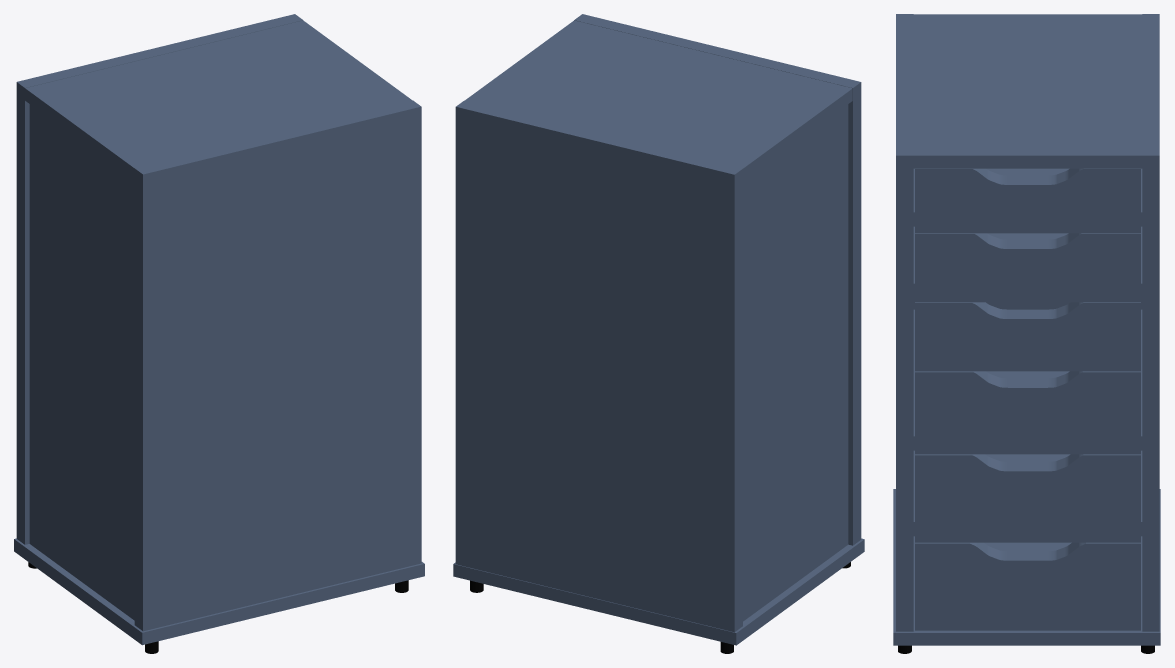
The model's file is Komod4.glb.
3 views of the same model, side by side, from view 1: azimuth 30°, elevation 25°; view 2: azimuth 150°, elevation 25°; view 3: azimuth 270°, elevation 25° (orthographic). The views are drawn at different scales.
Parts seen in each view (by area): view 1: Куб.014; view 2: Куб.014; view 3: Куб.014.
Boxes of the visible parts, left/top/right/bottom form: Куб.014: left=14, top=14, right=424, bottom=645; Куб.014: left=453, top=14, right=864, bottom=645; Куб.014: left=893, top=14, right=1160, bottom=645.
Bounding box in the file's own units: 3.05 × 4.97 × 2.39.
